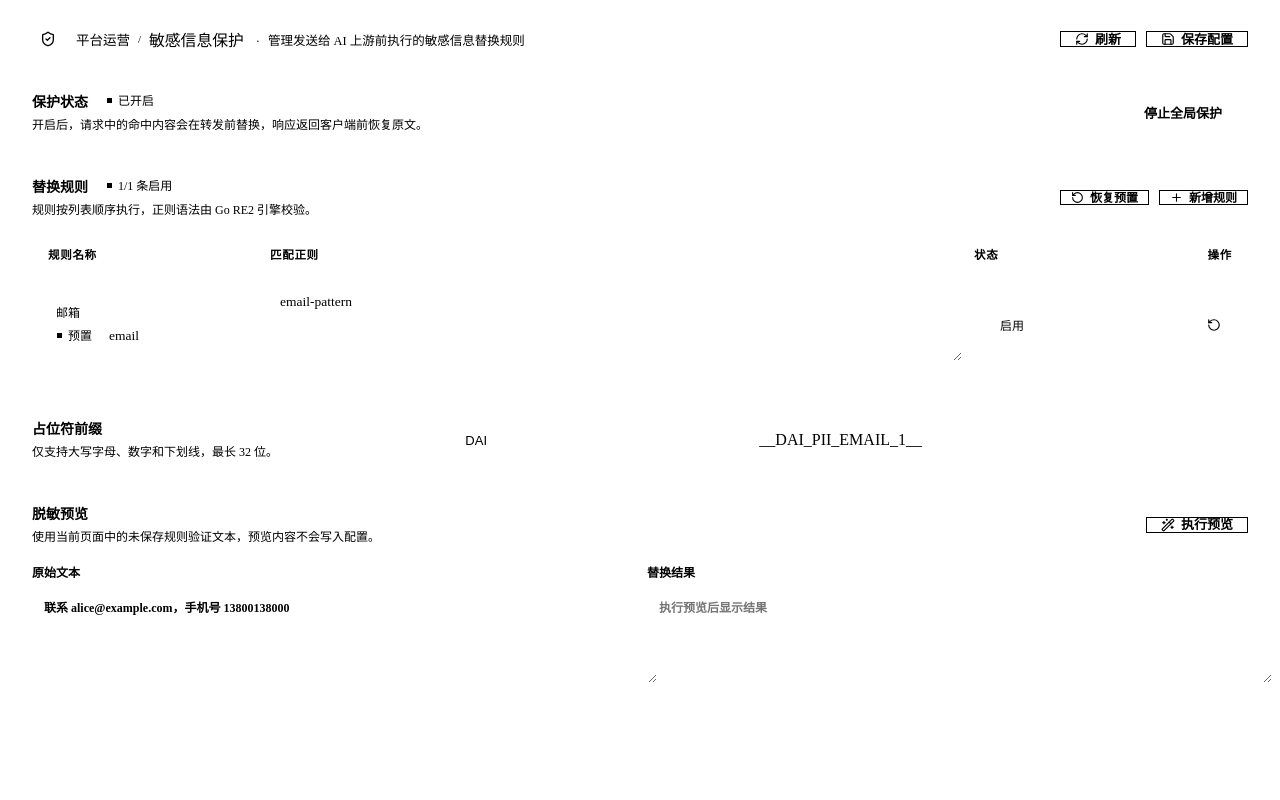
Test: SensitiveInformationProtectionWorkspace › loads, updates and previews the effective configuration
Click the button "保存配置" at (1197, 39), box [1146,31,1248,47]
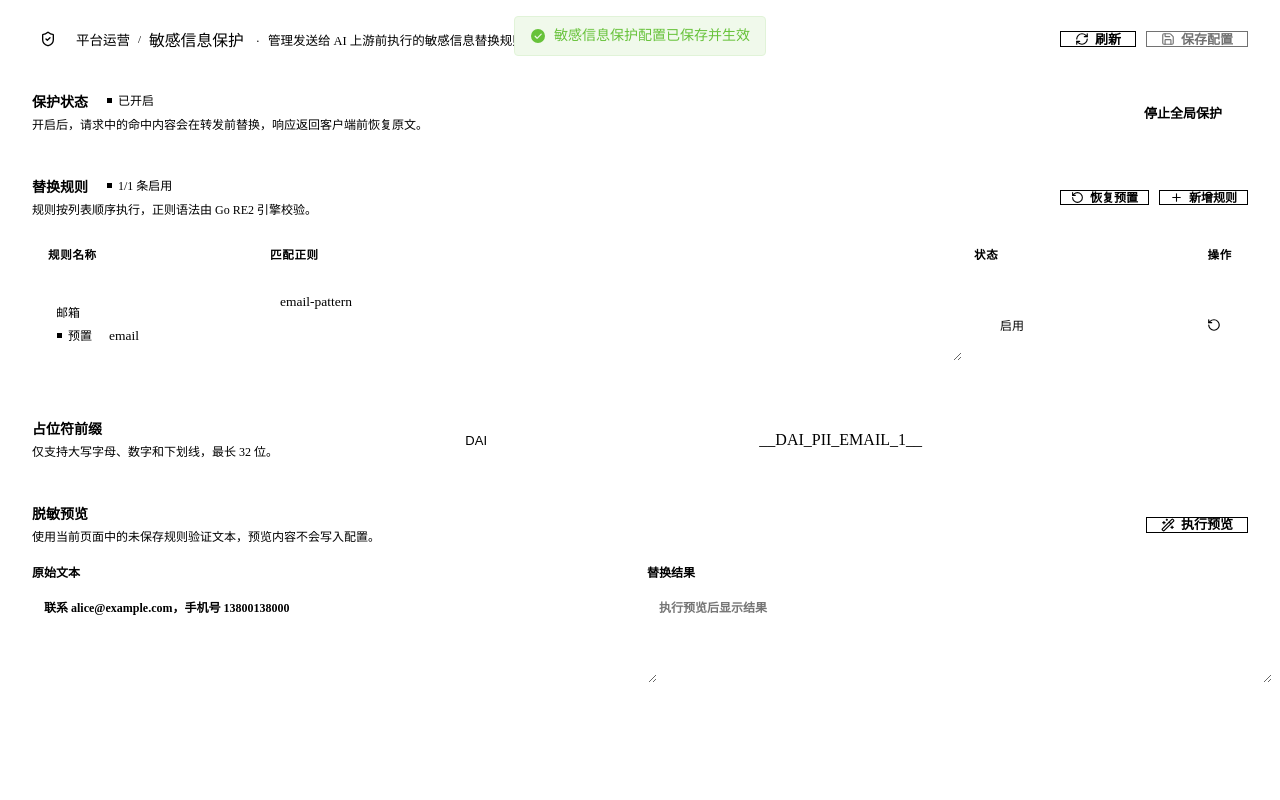
Click the button "执行预览" at (1197, 525), box [1146,517,1248,533]
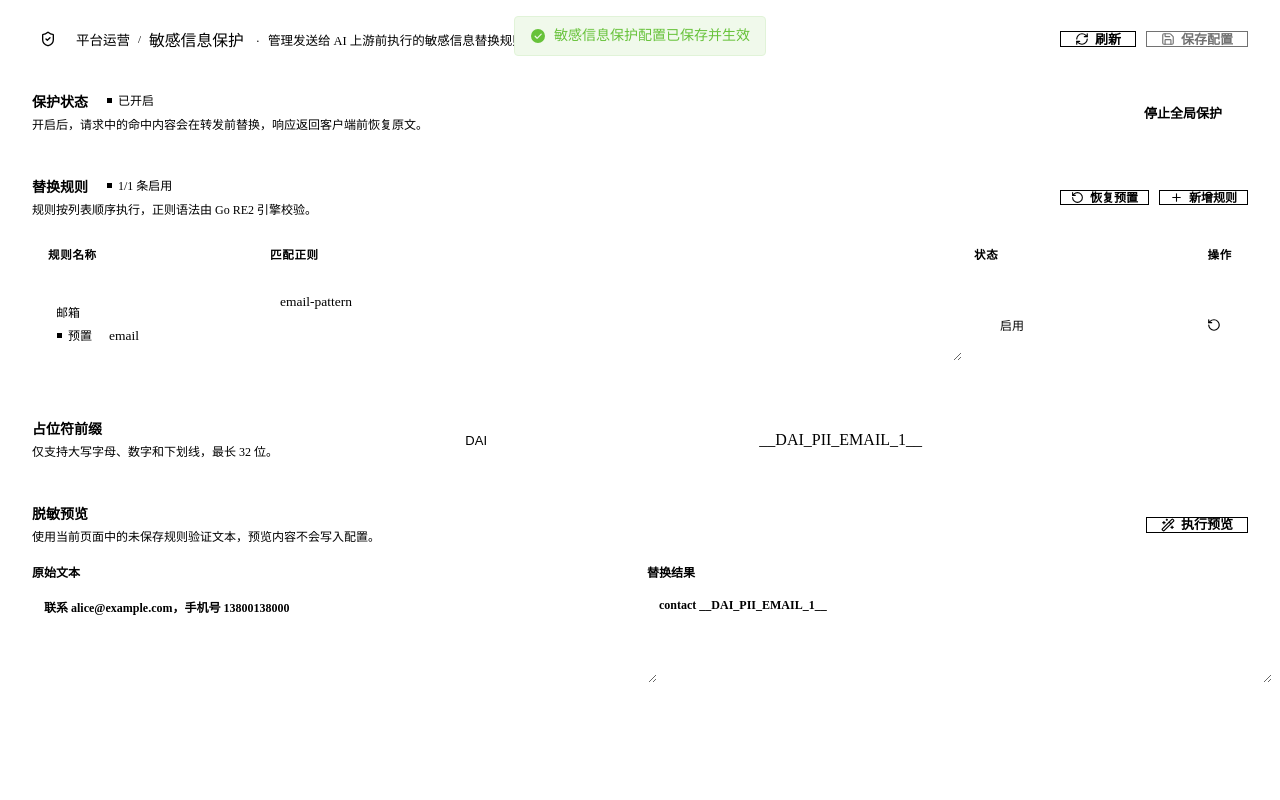
Check: the text "替换结果" is shown, box [647,566,695,580]
Check: the text box labelled "替换结果" holds "contact __DAI_PII_EMAIL_1__", box [647,588,1272,683]
